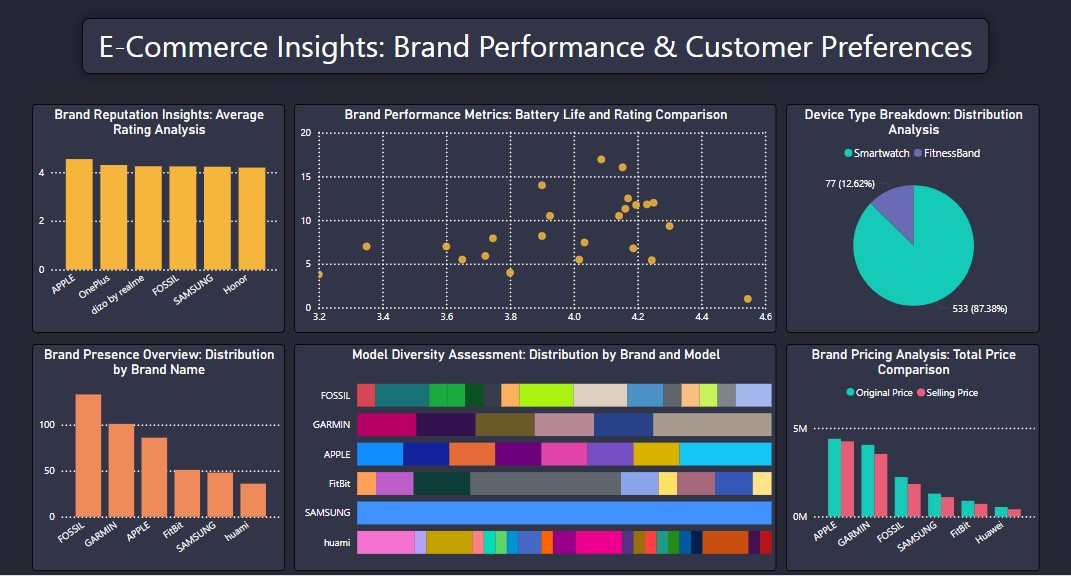

This screenshot's page, from the dashboard's own definition file:
{"tool":"powerbi","page":{"name":"Report Page no#1","canvas":[1280,720],"ordinal":0},"visuals":[{"type":"clusteredColumnChart","title":"Brand Presence Overview: Distribution by Brand Name","fields":{"Category":["Ecomerece Datset.Brand Name"],"Y":["CountNonNull(Ecomerece Datset.Brand Name)"]},"box":[10.1,431.7,315.8,283.9],"z":0},{"type":"pieChart","title":"Device Type Breakdown: Distribution Analysis","fields":{"Category":["Ecomerece Datset.Device Type"],"Y":["CountNonNull(Ecomerece Datset.Device Type)"]},"box":[952.4,131,317.5,285.6],"z":1000},{"type":"clusteredColumnChart","title":"Brand Pricing Analysis: Total Price Comparison","fields":{"Category":["Ecomerece Datset.Brand Name"],"Y":["Sum(Ecomerece Datset.Original Price)","Sum(Ecomerece Datset.Selling Price)"]},"box":[952.4,431.7,317.5,283.9],"z":2000},{"type":"hundredPercentStackedBarChart","title":"Model Diversity Assessment: Distribution by Brand and Model","fields":{"Category":["Ecomerece Datset.Brand Name"],"Y":["CountNonNull(Ecomerece Datset.Model Name)"],"Series":["Ecomerece Datset.Model Name"]},"box":[337.6,431.7,603,283.9],"z":3000},{"type":"scatterChart","title":"Brand Performance Metrics: Battery Life and Rating Comparison","fields":{"X":["Ecomerece Datset.Rating (Out of 5)"],"Y":["Ecomerece Datset.Average Battery Life (in days)"],"Category":["Ecomerece Datset.Brand Name"]},"box":[337.6,131,603,285.6],"z":4000},{"type":"columnChart","title":"Brand Reputation Insights: Average Rating Analysis","fields":{"Y":["Avg(Ecomerece Datset.Rating (Out of 5))"],"Category":["Ecomerece Datset.Brand Name"]},"box":[10,131,316,286],"z":5000},{"type":"textbox","box":[72,23.2,1133.7,69.6],"z":6000}]}

Visuals, with their boxes on the page's 1280x720 design canvas (x1, y1, x2, y2). These are canvas units, not pixel positions in the 1071x576 screenshot, which may show the page scaled, cropped or inside an application window:
"Brand Presence Overview: Distribution by Brand Name" clusteredColumnChart: 10/432/326/716
"Device Type Breakdown: Distribution Analysis" pieChart: 952/131/1270/417
"Brand Pricing Analysis: Total Price Comparison" clusteredColumnChart: 952/432/1270/716
"Model Diversity Assessment: Distribution by Brand and Model" hundredPercentStackedBarChart: 338/432/941/716
"Brand Performance Metrics: Battery Life and Rating Comparison" scatterChart: 338/131/941/417
"Brand Reputation Insights: Average Rating Analysis" columnChart: 10/131/326/417
textbox: 72/23/1206/93
